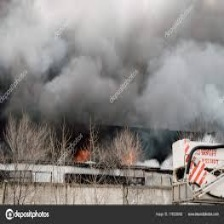smoke: (17, 2, 224, 165)
